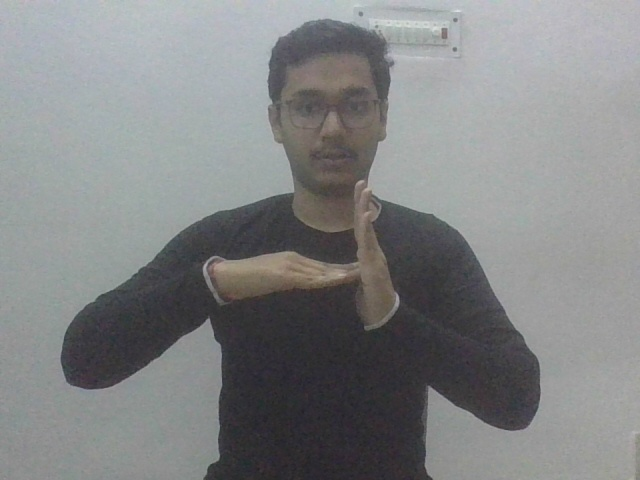Z: (214, 180, 399, 315)
